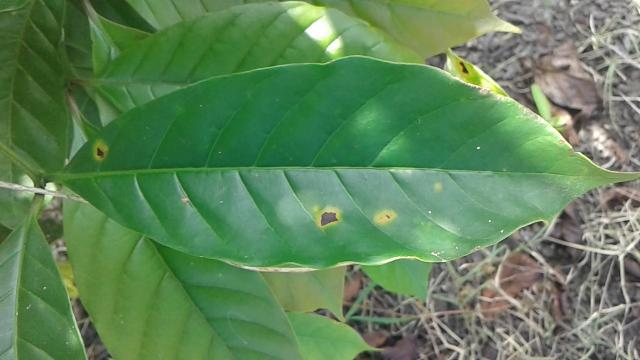rust_level_1: (56, 52, 640, 272)
